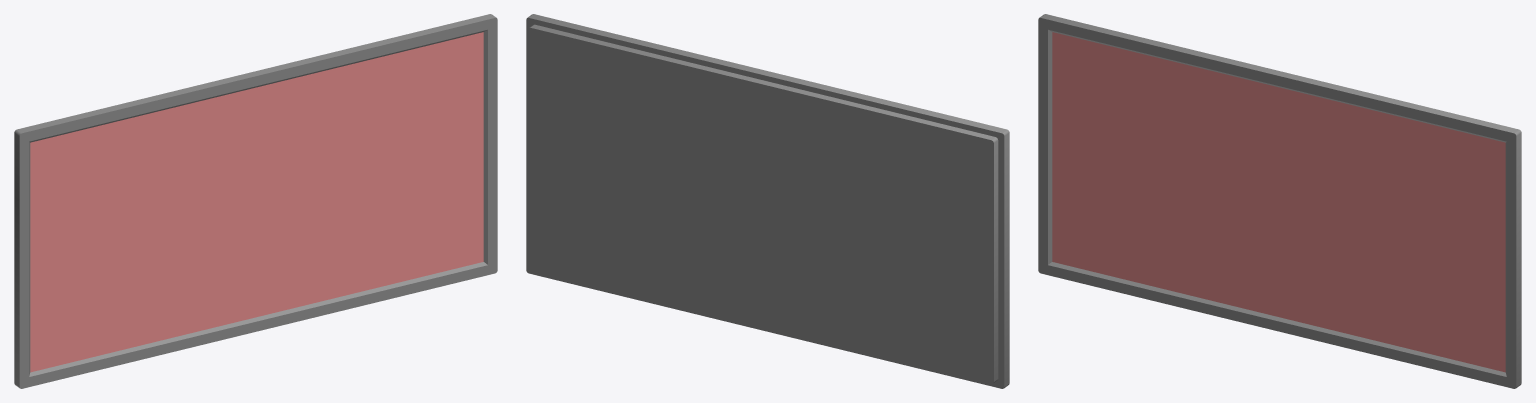
File: S_Envi_FZFBase_Screen_01a.gltf
The picture shows the model from 3 angles, left to right: view 1: azimuth 30°, elevation 25°; view 2: azimuth 150°, elevation 25°; view 3: azimuth 330°, elevation 25°; orthographic projection.
Visible parts, largest first — view 1: S_Envi_FZFBase_Screen_01a; view 2: S_Envi_FZFBase_Screen_01a; view 3: S_Envi_FZFBase_Screen_01a.
Boxes of the visible parts, x1,y1,x2,y2 form: S_Envi_FZFBase_Screen_01a: (14, 14, 497, 388); S_Envi_FZFBase_Screen_01a: (526, 14, 1009, 388); S_Envi_FZFBase_Screen_01a: (1038, 14, 1521, 388).
Bounding box in the file's own units: 5.31 × 2.71 × 0.1836.
